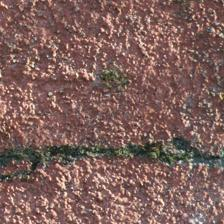Crack: (2, 67, 213, 113)
